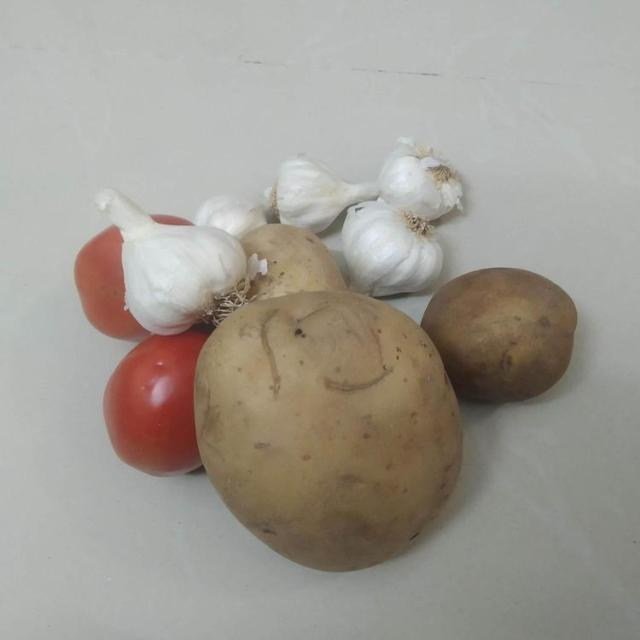Organik: (202, 289, 465, 577), (426, 258, 608, 411), (94, 184, 251, 328), (90, 337, 204, 481), (334, 195, 446, 296), (382, 130, 484, 213), (264, 157, 374, 230)
